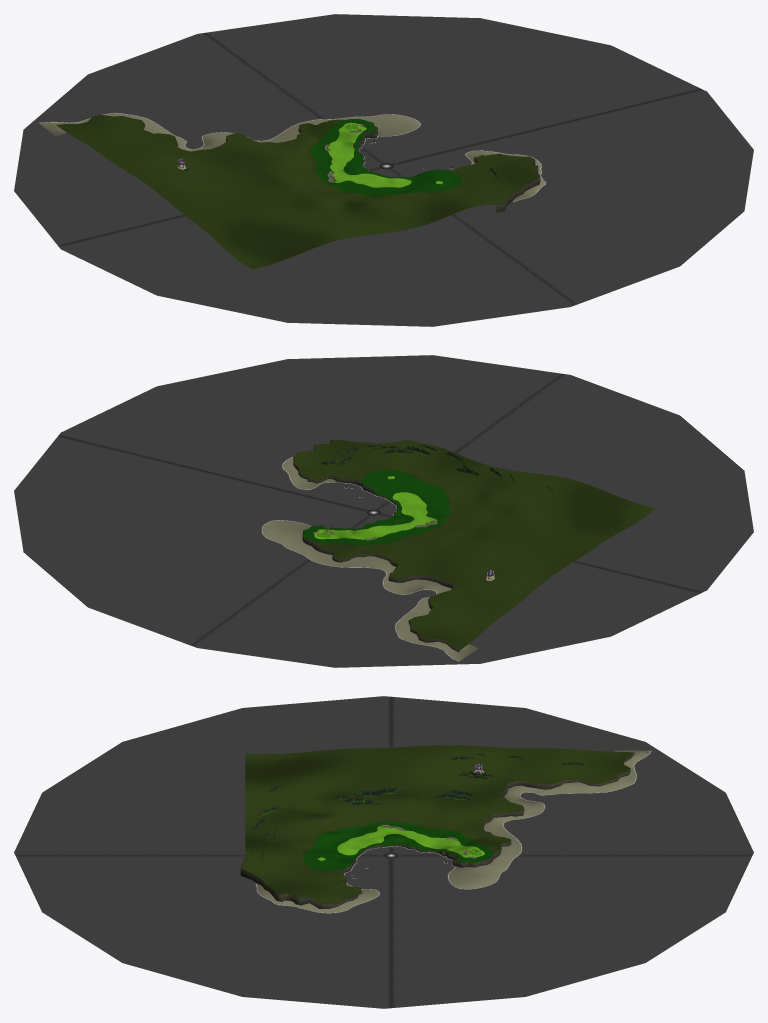
File: glf_course_fc5__glf_course_fc5.glb
The picture shows the model from 3 angles, top to bottom: view 1: azimuth 30°, elevation 25°; view 2: azimuth 150°, elevation 25°; view 3: azimuth 270°, elevation 25°; orthographic projection.
Parts seen in each view (by area): view 1: polygon74, polygon8, polygon17, polygon0, polygon6, polygon11; view 2: polygon74, polygon8, polygon0, polygon17, polygon6, polygon11, polygon28; view 3: polygon74, polygon8, polygon0, polygon17, polygon11, polygon6, polygon28, polygon68.
Part boxes in pixels (<box>): polygon74: <box>14,14,753,326</box>; polygon8: <box>56,115,538,269</box>; polygon17: <box>311,119,461,196</box>; polygon0: <box>39,113,545,201</box>; polygon6: <box>328,122,442,187</box>; polygon11: <box>88,116,540,212</box>; polygon74: <box>14,355,753,667</box>; polygon8: <box>294,439,655,650</box>; polygon0: <box>262,457,478,661</box>; polygon17: <box>303,470,449,545</box>; polygon6: <box>314,476,437,539</box>; polygon11: <box>293,440,459,652</box>; polygon28: <box>321,444,554,582</box>; polygon74: <box>14,696,753,1008</box>; polygon8: <box>242,745,633,903</box>; polygon0: <box>256,750,650,913</box>; polygon17: <box>304,821,493,870</box>; polygon11: <box>240,752,634,908</box>; polygon6: <box>318,826,484,860</box>; polygon28: <box>252,753,583,889</box>; polygon68: <box>256,751,651,913</box>.
Size of the model in its own units: 16000 by 362 by 16000.
16 materials, 15 textured.
